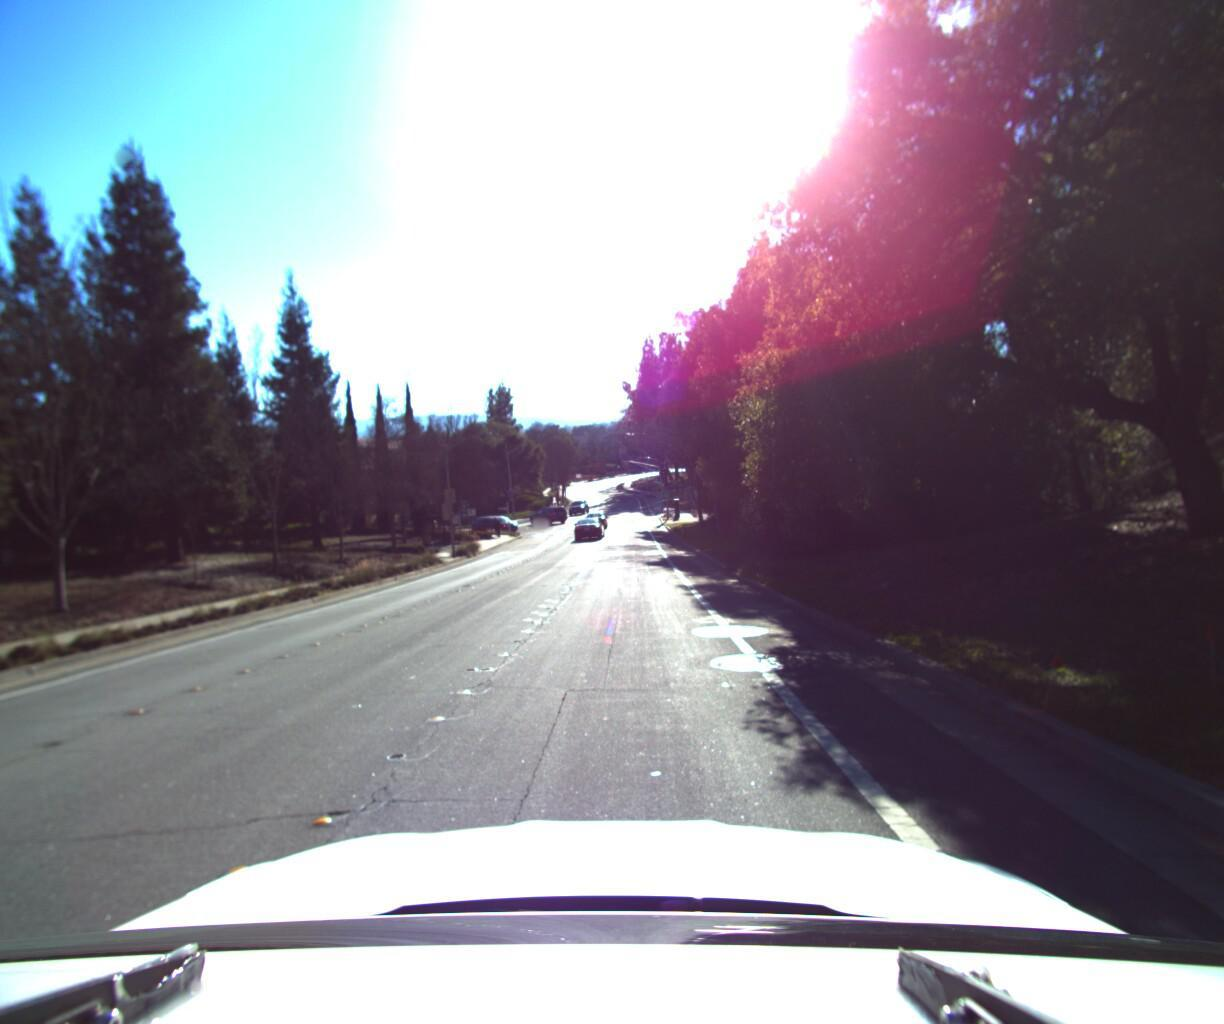car: (569, 509, 608, 542)
